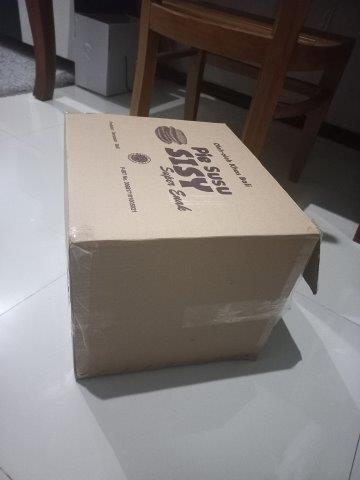kardus: (62, 113, 320, 383)
